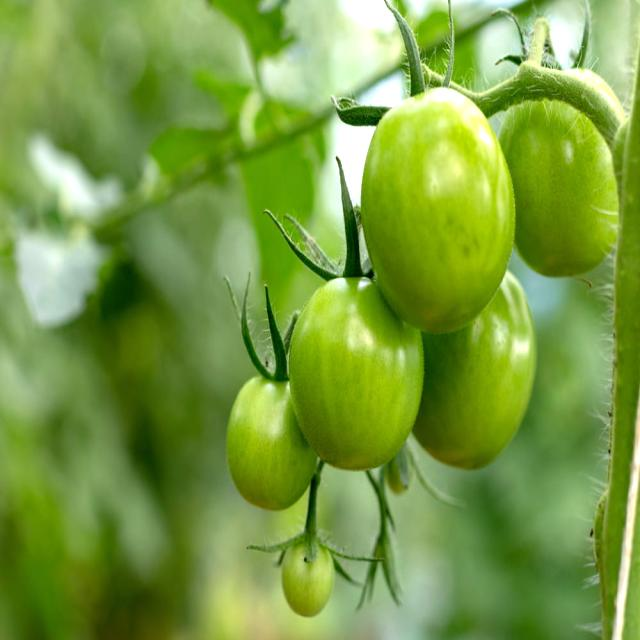ripe0: (361, 88, 517, 331), (289, 276, 424, 472), (418, 280, 542, 470), (225, 372, 307, 512), (284, 544, 332, 618)
